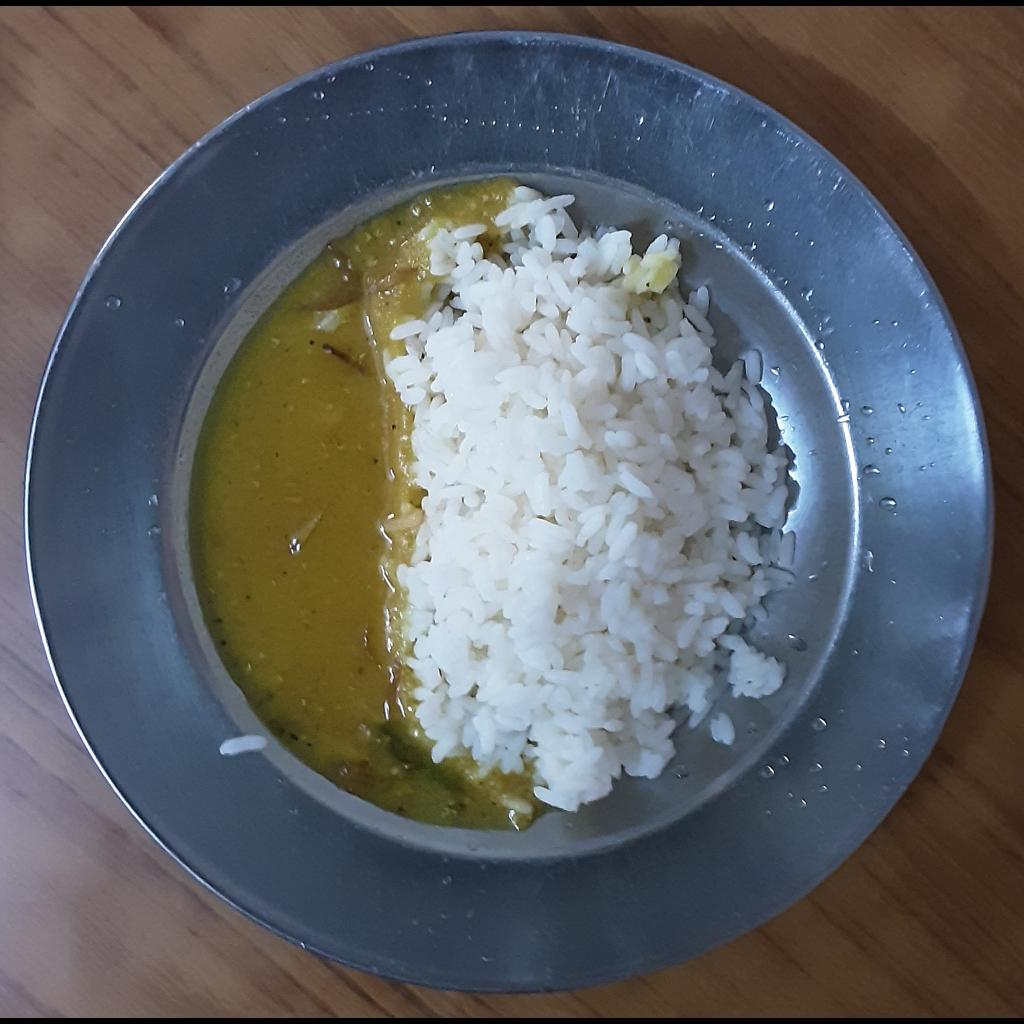daal: (187, 179, 537, 829)
rice: (382, 177, 799, 812), (218, 730, 265, 754)
